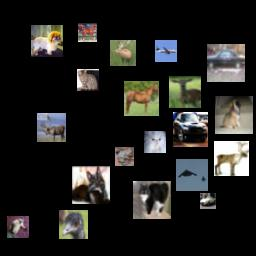airplane: (176, 159, 208, 191), (155, 40, 177, 62)
automobile: (207, 44, 245, 82), (173, 112, 208, 147), (200, 193, 216, 209)
bird: (59, 210, 88, 239)
cat: (133, 181, 171, 219), (72, 166, 110, 204), (7, 216, 29, 238), (77, 69, 99, 91), (144, 131, 166, 153)
deer: (214, 141, 249, 176), (169, 76, 201, 108), (37, 113, 66, 142), (110, 40, 136, 66)
dog: (215, 96, 253, 134), (31, 25, 63, 57)
frog: (115, 147, 134, 166)
